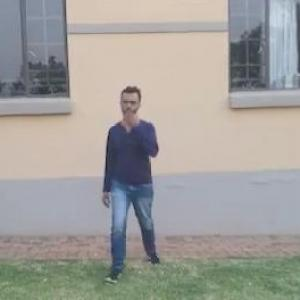follow: (102, 84, 162, 273)
